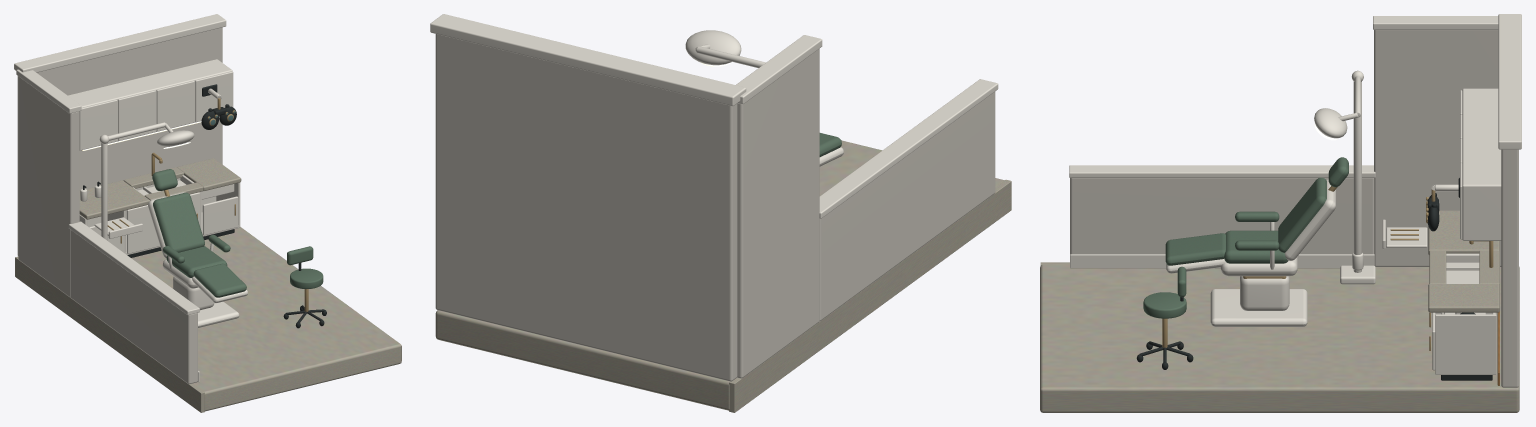
Rendered from clinical-bay.glb.
The picture shows the model from 3 angles, left to right: view 1: azimuth 30°, elevation 25°; view 2: azimuth 150°, elevation 25°; view 3: azimuth 270°, elevation 25°; orthographic projection. The views are drawn at different scales.
Visible parts, largest first — view 1: Bay_Architecture • Chalk • warm mineral plaster, Bay_Architecture • Limestone • honed, Bay_WallCabinet • Porcelain • soft white, Bay_Architecture • Porcelain • soft white, Bay_Cabinet • Porcelain • soft white, Bay_Cabinet • Limestone • honed, Bay_Backrest • Sage • woven upholstery, Bay_Chair • Porcelain • soft white, Bay_Chair • Sage • woven upholstery, Legrest cushion, Bay_Stool • Sage • woven upholstery, Bay_DentalLight • Porcelain • soft white (+7 smaller); view 2: Bay_Architecture • Chalk • warm mineral plaster, Bay_Architecture • Limestone • honed, Bay_Architecture • Porcelain • soft white, Bay_LightHead • Porcelain • soft white, Bay_DentalArm • Porcelain • soft white; view 3: Bay_Architecture • Limestone • honed, Bay_Architecture • Chalk • warm mineral plaster, Bay_Architecture • Porcelain • soft white, Bay_WallCabinet • Porcelain • soft white, Bay_Chair • Porcelain • soft white, Bay_Cabinet • Porcelain • soft white, Bay_Cabinet • Limestone • honed, Bay_Chair • Sage • woven upholstery, Bay_DentalLight • Porcelain • soft white, Bay_Backrest • Sage • woven upholstery, Legrest cushion, Bay_Stool • Sage • woven upholstery (+5 smaller).
Boxes of the visible parts, left/top/right/bottom form: Bay_Architecture • Chalk • warm mineral plaster: left=17, top=27, right=222, bottom=384; Bay_Architecture • Limestone • honed: left=15, top=227, right=401, bottom=412; Bay_WallCabinet • Porcelain • soft white: left=68, top=59, right=233, bottom=150; Bay_Architecture • Porcelain • soft white: left=14, top=14, right=226, bottom=382; Bay_Cabinet • Porcelain • soft white: left=79, top=175, right=240, bottom=255; Bay_Cabinet • Limestone • honed: left=79, top=158, right=241, bottom=219; Bay_Backrest • Sage • woven upholstery: left=152, top=169, right=204, bottom=252; Bay_Chair • Porcelain • soft white: left=162, top=243, right=239, bottom=327; Bay_Chair • Sage • woven upholstery: left=163, top=234, right=230, bottom=277; Legrest cushion: left=193, top=263, right=246, bottom=297; Bay_Stool • Sage • woven upholstery: left=287, top=246, right=323, bottom=289; Bay_DentalLight • Porcelain • soft white: left=101, top=143, right=107, bottom=240; Bay_Architecture • Chalk • warm mineral plaster: left=435, top=34, right=995, bottom=381; Bay_Architecture • Limestone • honed: left=435, top=140, right=1011, bottom=412; Bay_Architecture • Porcelain • soft white: left=430, top=14, right=998, bottom=218; Bay_LightHead • Porcelain • soft white: left=685, top=30, right=741, bottom=65; Bay_DentalArm • Porcelain • soft white: left=696, top=46, right=765, bottom=67; Bay_Architecture • Limestone • honed: left=1040, top=262, right=1519, bottom=412; Bay_Architecture • Chalk • warm mineral plaster: left=1070, top=30, right=1518, bottom=387; Bay_Architecture • Porcelain • soft white: left=1069, top=14, right=1521, bottom=268; Bay_WallCabinet • Porcelain • soft white: left=1460, top=88, right=1501, bottom=240; Bay_Chair • Porcelain • soft white: left=1210, top=222, right=1307, bottom=326; Bay_Cabinet • Porcelain • soft white: left=1432, top=253, right=1496, bottom=374; Bay_Cabinet • Limestone • honed: left=1428, top=210, right=1499, bottom=312; Bay_Chair • Sage • woven upholstery: left=1224, top=211, right=1288, bottom=263; Bay_DentalLight • Porcelain • soft white: left=1340, top=81, right=1375, bottom=284; Bay_Backrest • Sage • woven upholstery: left=1278, top=157, right=1348, bottom=252; Legrest cushion: left=1165, top=233, right=1225, bottom=265; Bay_Stool • Sage • woven upholstery: left=1143, top=266, right=1186, bottom=318.
Size of the model in its own units: 3.26 by 3.22 by 5.12.
Materials: 10 (3 with a texture image).
